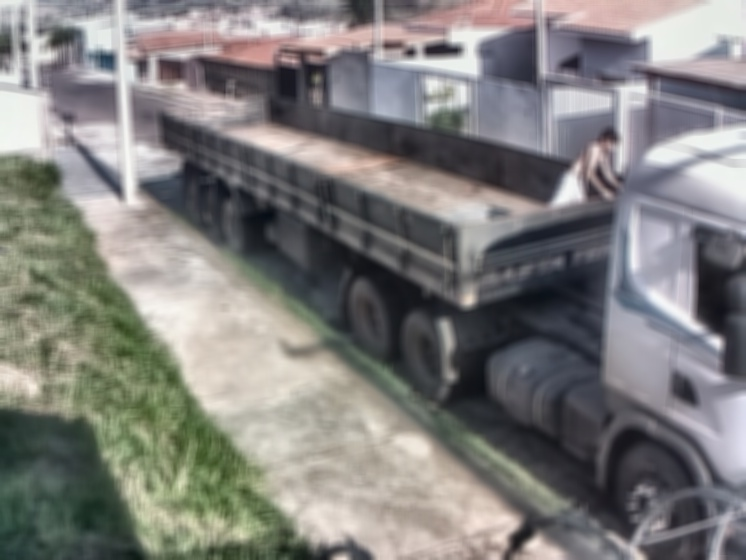person: (541, 127, 626, 206)
